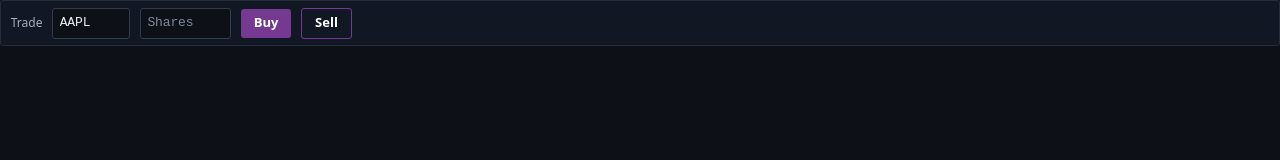
TradeBar › shows the server detail inline on a rejected trade
The width and height of the screenshot is (1280, 160).
Type "1000000" into the field with test id "trade-quantity" at point(185, 23), box [140,8,231,39]
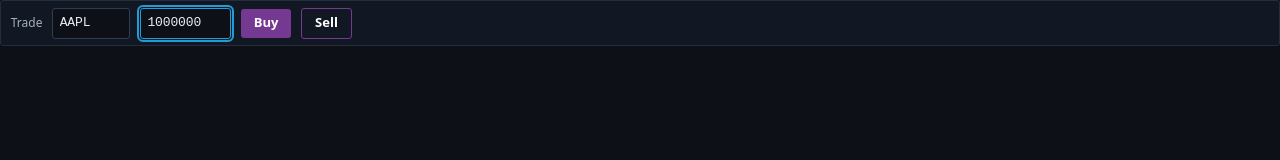
Click the button with test id "trade-buy" at point(266, 23), box [241,8,291,38]
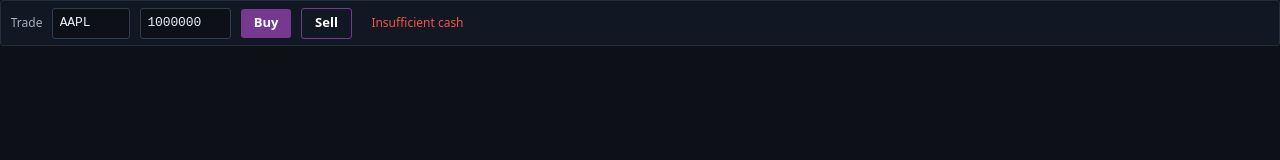
Now the message with test id "trade-error" reads "Insufficient cash", box [371,14,464,31]
